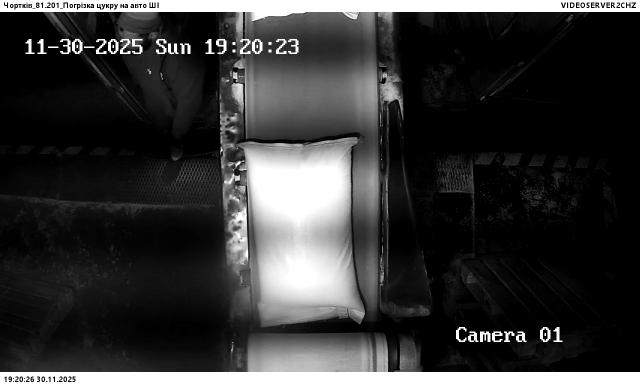bag: (239, 138, 366, 326), (251, 11, 364, 22)
